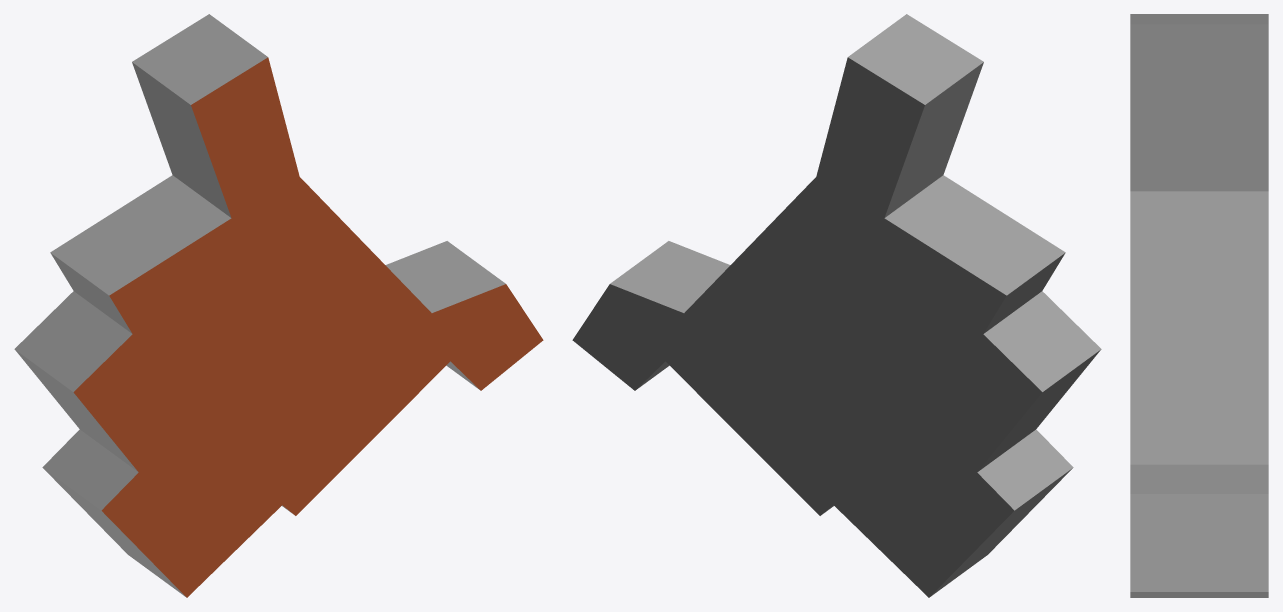
The model's file is construction_4562_assumed_A_Casa_h6m.obj.
3 renders of one model, left to right at view 1: azimuth 30°, elevation 25°; view 2: azimuth 150°, elevation 25°; view 3: azimuth 270°, elevation 25°, orthographic. The views are drawn at different scales.
Visible parts, largest first — view 1: construction_4562_assumed_A_Casa; view 2: construction_4562_assumed_A_Casa; view 3: construction_4562_assumed_A_Casa.
Part boxes in pixels (x1,y1,x2,y2): construction_4562_assumed_A_Casa: (14, 14, 543, 597); construction_4562_assumed_A_Casa: (572, 14, 1101, 597); construction_4562_assumed_A_Casa: (1130, 14, 1268, 597).
Size of the model in its own units: 27.6 by 29.23 by 6.
